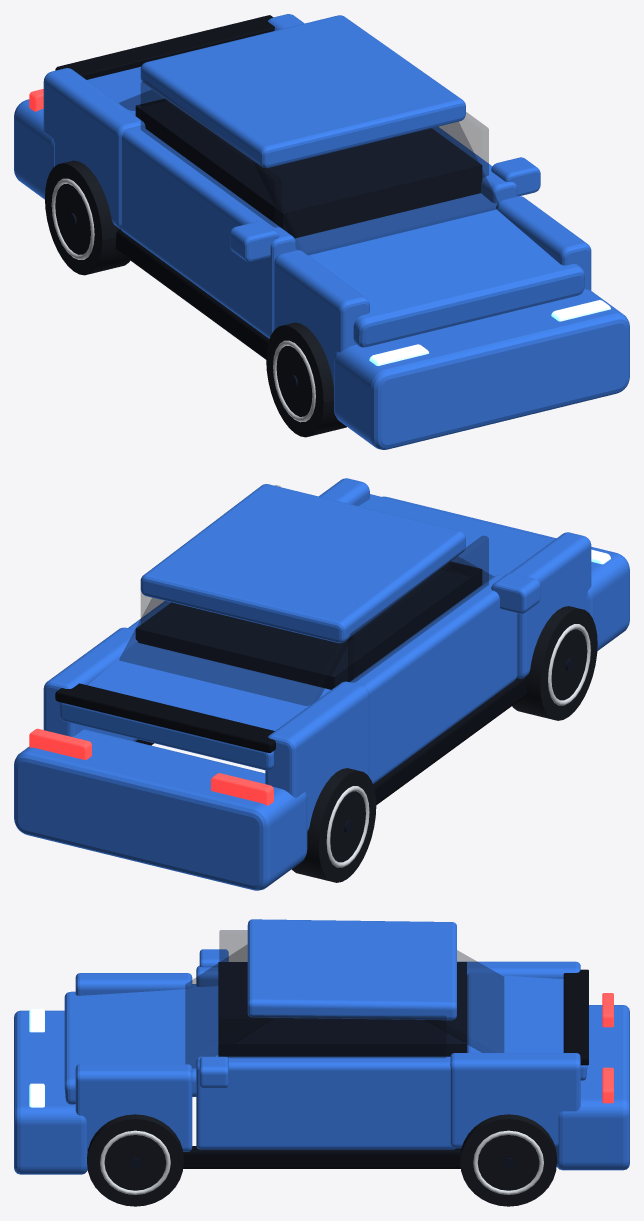
The model's file is sports-sedan.glb.
3 renders of one model, top to bottom at view 1: azimuth 30°, elevation 25°; view 2: azimuth 150°, elevation 25°; view 3: azimuth 270°, elevation 25°, orthographic. The views are drawn at different scales.
Visible parts, largest first — view 1: body_roof, body_bumper_front, body_bonnet, object 1, glass_windshield, body_door_front_left, body_door_rear_left, body_quarter_rear_left, glass_windows_left, body_fender_front_left, wheel_tire_rl, wheel_tire_fl (+13 smaller); view 2: body_roof, body_bumper_rear, object 1, body_trunk, glass_rear, body_door_front_left, body_door_rear_left, body_quarter_rear_left, glass_windows_left, wheel_tire_fl, wheel_tire_rl, body_fender_front_left (+11 smaller); view 3: body_roof, body_door_front_right, body_bonnet, object 1, body_door_rear_right, glass_windows_right, body_quarter_rear_right, body_bumper_front, body_bumper_rear, body_trunk, body_fender_front_right, wheel_tire_rr (+15 smaller).
Part boxes in pixels (bbox=[...]): body_roof: bbox=[140, 15, 465, 168]; body_bumper_front: bbox=[334, 289, 629, 449]; body_bonnet: bbox=[295, 193, 584, 347]; object 1: bbox=[135, 98, 482, 238]; glass_windshield: bbox=[253, 122, 499, 255]; body_door_front_left: bbox=[191, 178, 295, 338]; body_door_rear_left: bbox=[121, 127, 214, 282]; body_quarter_rear_left: bbox=[43, 68, 145, 228]; glass_windows_left: bbox=[141, 81, 281, 227]; body_fender_front_left: bbox=[274, 250, 369, 386]; wheel_tire_rl: bbox=[45, 160, 130, 275]; wheel_tire_fl: bbox=[266, 322, 346, 437]; body_roof: bbox=[140, 484, 465, 643]; body_bumper_rear: bbox=[14, 729, 307, 890]; object 1: bbox=[135, 561, 482, 689]; body_trunk: bbox=[59, 642, 330, 770]; glass_rear: bbox=[119, 598, 352, 705]; body_door_front_left: bbox=[417, 575, 517, 736]; body_door_rear_left: bbox=[350, 633, 440, 784]; body_quarter_rear_left: bbox=[265, 681, 369, 831]; glass_windows_left: bbox=[348, 536, 488, 682]; wheel_tire_fl: bbox=[512, 606, 597, 720]; wheel_tire_rl: bbox=[291, 768, 376, 882]; body_fender_front_left: bbox=[509, 532, 591, 678]; body_roof: bbox=[247, 919, 456, 1020]; body_door_front_right: bbox=[196, 1056, 332, 1149]; body_bonnet: bbox=[64, 984, 218, 1104]; object 1: bbox=[218, 962, 466, 1056]; body_door_rear_right: bbox=[329, 1056, 455, 1149]; glass_windows_right: bbox=[219, 1015, 446, 1057]; body_quarter_rear_right: bbox=[450, 1053, 580, 1148]; body_bumper_front: bbox=[14, 1010, 87, 1174]; body_bumper_rear: bbox=[556, 1005, 629, 1170]; body_trunk: bbox=[467, 973, 587, 1080]; body_fender_front_right: bbox=[75, 1064, 192, 1151]; wheel_tire_rr: bbox=[460, 1114, 556, 1206].
Bounding box in the file's own units: 2.09 × 1.52 × 4.46.
